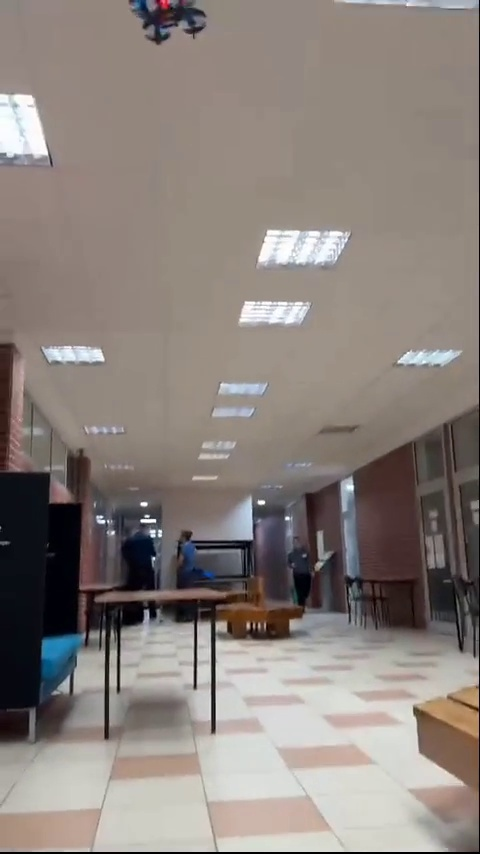drone: (126, 0, 204, 48)
no vest: (122, 521, 168, 602), (283, 533, 315, 610), (171, 527, 204, 584)
